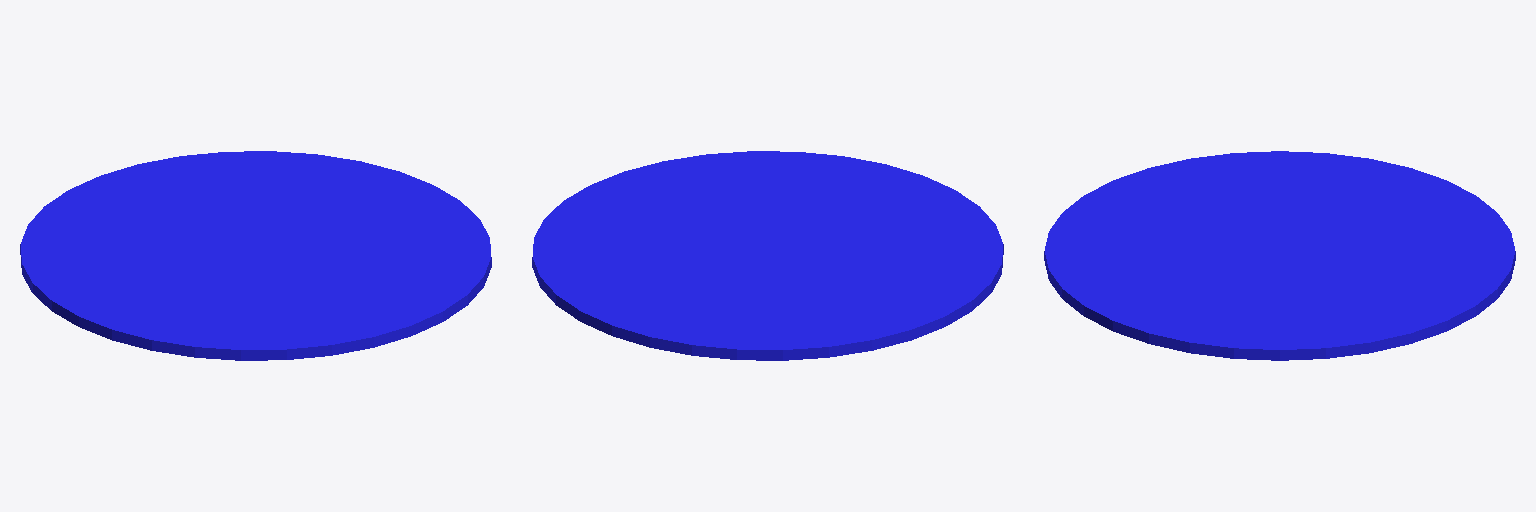
The robot description file, URDF, robot "disk.urdf":
<?xml version="0.0" ?>
<robot name="disk.urdf">
  <link name="baseLink">
    <contact>
      <lateral_friction value="1.0"/>
      <inertia_scaling value="3.0"/>
    </contact>
    <inertial>
      <origin rpy="0 0 0" xyz="0 0 0"/>
       <mass value="1.0"/>
       <inertia ixx="1" ixy="0" ixz="0" iyy="1" iyz="0" izz="1"/>
    </inertial>
    <visual>
      <origin rpy="0 0 0" xyz="0 0 0"/>
      <geometry>
			<cylinder length="0.05" radius="1.0"/>
      </geometry>
       <material name="white">
        <color rgba="0.2 0.2 1 1"/>
      </material>
    </visual>
    <collision>
      <origin rpy="0 0 0" xyz="0 0 0"/>
      <geometry>
			<cylinder length="0.05" radius="1.0"/>
      </geometry>
    </collision>
  </link>
</robot>

--- Render facts (derived) ---
Views: 3 orthographic renders of the robot side by side, from view 1: azimuth 30°, elevation 25°; view 2: azimuth 150°, elevation 25°; view 3: azimuth 270°, elevation 25°.
Model disk.urdf with 1 links and 0 joints (none), rooted at baseLink, posed all joints at 0.
Links seen in each view (by area): view 1: baseLink; view 2: baseLink; view 3: baseLink.
Boxes of the visible links, x1,y1,x2,y2 form: baseLink: [20, 151, 491, 360]; baseLink: [532, 151, 1003, 360]; baseLink: [1044, 151, 1515, 360].
Bounding box of the posed robot: 2 × 2 × 0.05 m (x, y, z).
Geometry: primitives only (box / cylinder / sphere), no mesh files.